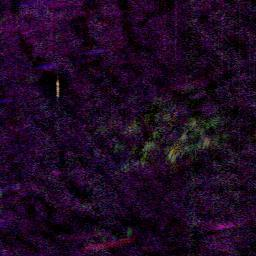Ship: (49, 77, 68, 99)
